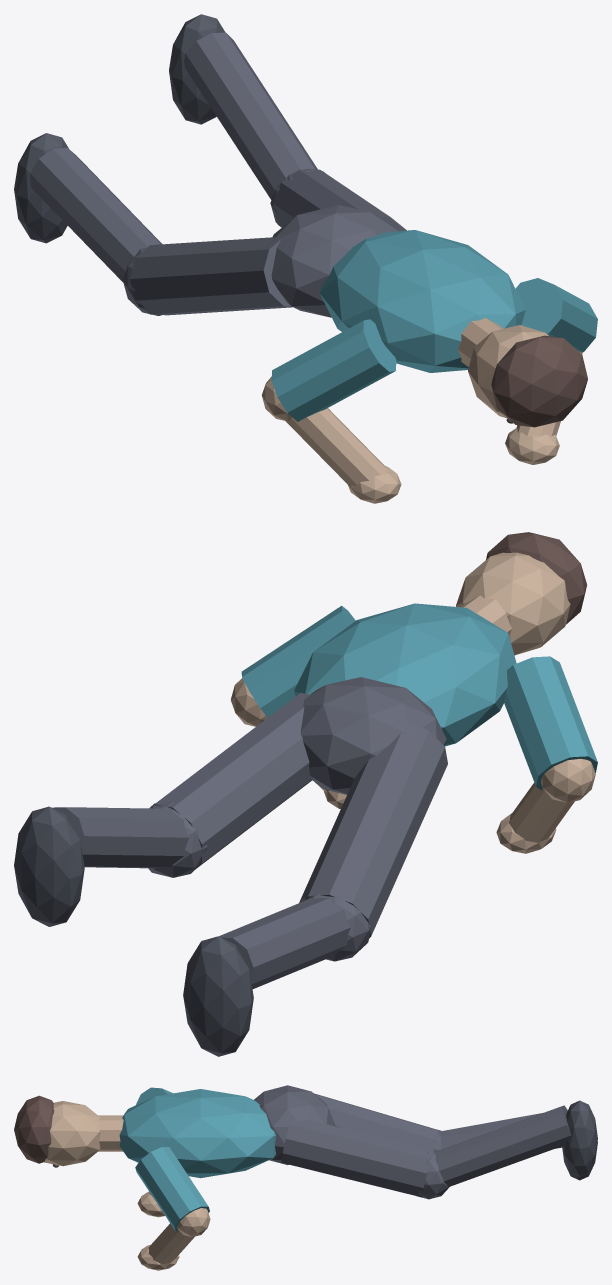
3 views of the same model, one above another, from view 1: azimuth 30°, elevation 25°; view 2: azimuth 150°, elevation 25°; view 3: azimuth 270°, elevation 25° (orthographic). The views are drawn at different scales.
Parts seen in each view (by area): view 1: world; view 2: world; view 3: world.
Boxes of the visible parts, x1,y1,x2,y2 form: world: (14, 14, 597, 503); world: (14, 532, 597, 1056); world: (14, 1085, 597, 1270).
Size of the model in its own units: 0.93 by 0.625 by 2.08.
